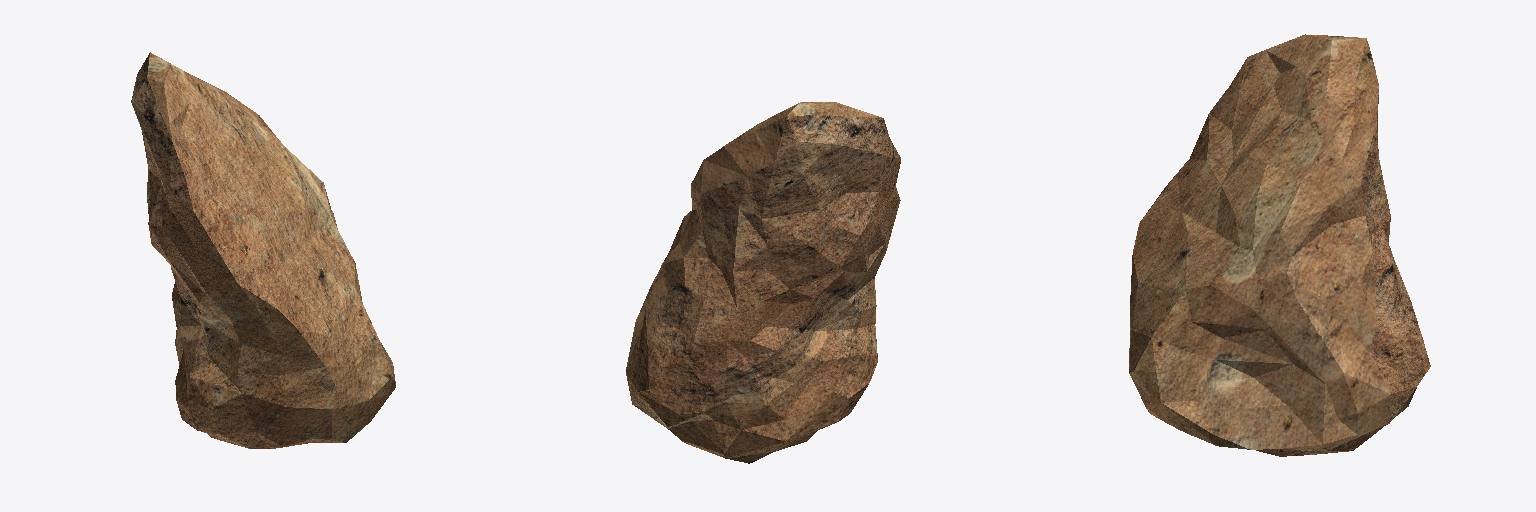
The picture shows the model from 3 angles: view 1: azimuth 30°, elevation 25°; view 2: azimuth 150°, elevation 25°; view 3: azimuth 270°, elevation 25°; orthographic projection.
Parts seen in each view (by area): view 1: 1lod_low_poly; view 2: 1lod_low_poly; view 3: 1lod_low_poly.
Boxes of the visible parts, x1=… form: 1lod_low_poly: x1=131, y1=52, x2=395, y2=448; 1lod_low_poly: x1=626, y1=102, x2=900, y2=463; 1lod_low_poly: x1=1129, y1=34, x2=1430, y2=456.
Bounding box in the file's own units: 2.18 × 3.67 × 2.68.
Materials: 1 (1 with a texture image).